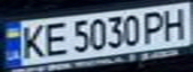0: (121, 11, 145, 47), (87, 16, 109, 52)
3: (106, 12, 127, 48)
5: (66, 17, 90, 54)
E: (39, 19, 69, 57)
H: (157, 4, 193, 40)
K: (15, 21, 48, 61)
P: (139, 8, 172, 44)
